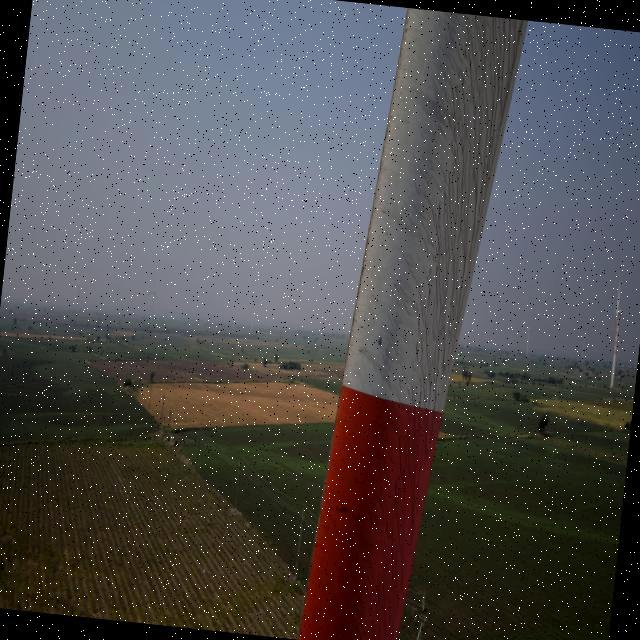Dirt: (325, 17, 528, 640)
Pin Hole: (336, 500, 349, 518), (376, 333, 385, 349)
